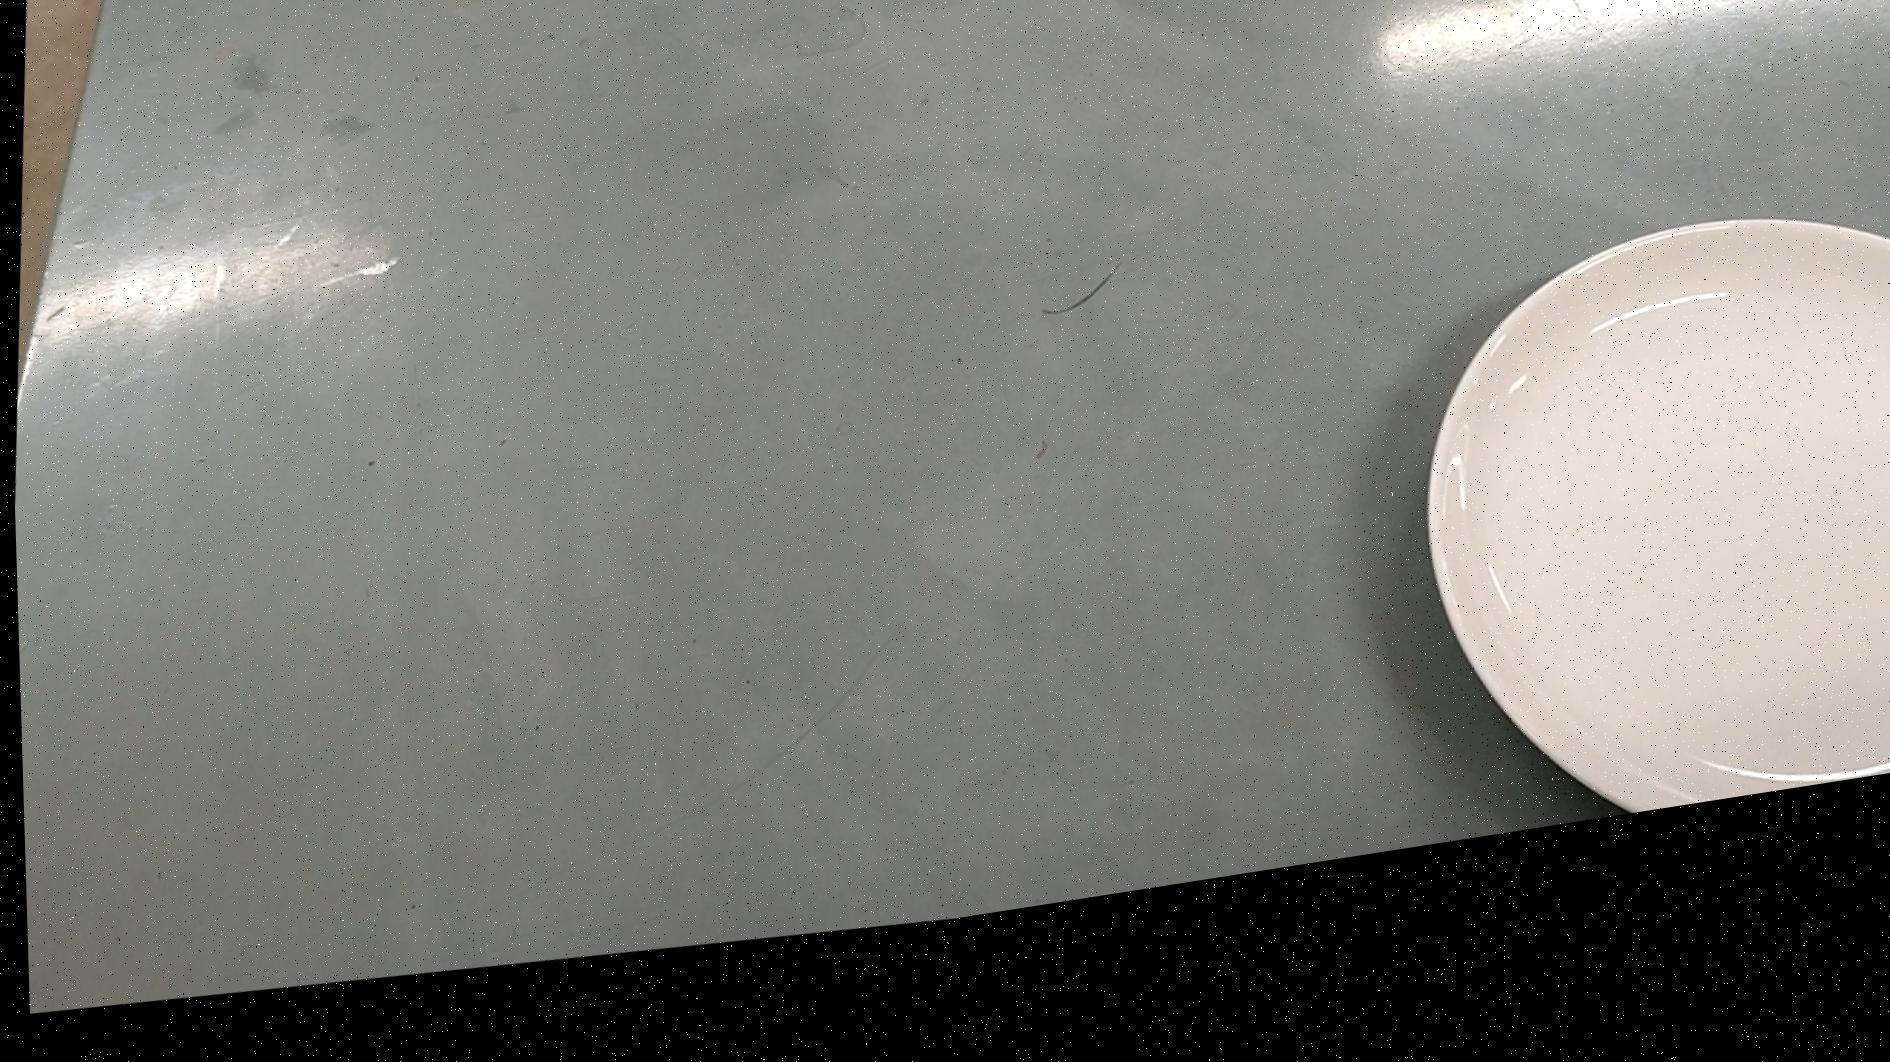plate: (1395, 238, 1890, 892)
